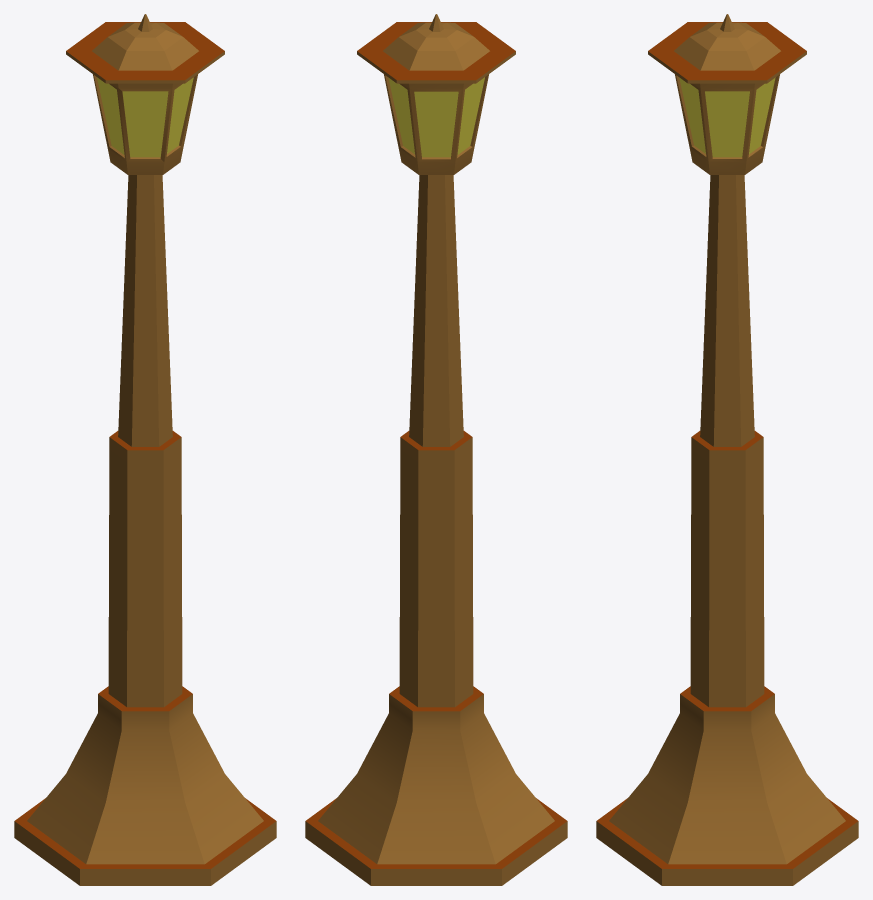
File: bandera.fbx
The picture shows the model from 3 angles, left to right: view 1: azimuth 30°, elevation 25°; view 2: azimuth 150°, elevation 25°; view 3: azimuth 270°, elevation 25°; orthographic projection.
Parts seen in each view (by area): view 1: bandera; view 2: bandera; view 3: bandera.
Part boxes in pixels (x1,y1,x2,y2): bandera: [14, 14, 276, 885]; bandera: [305, 14, 567, 885]; bandera: [596, 14, 858, 885].
Size of the model in its own units: 79.41 by 318 by 91.7.
